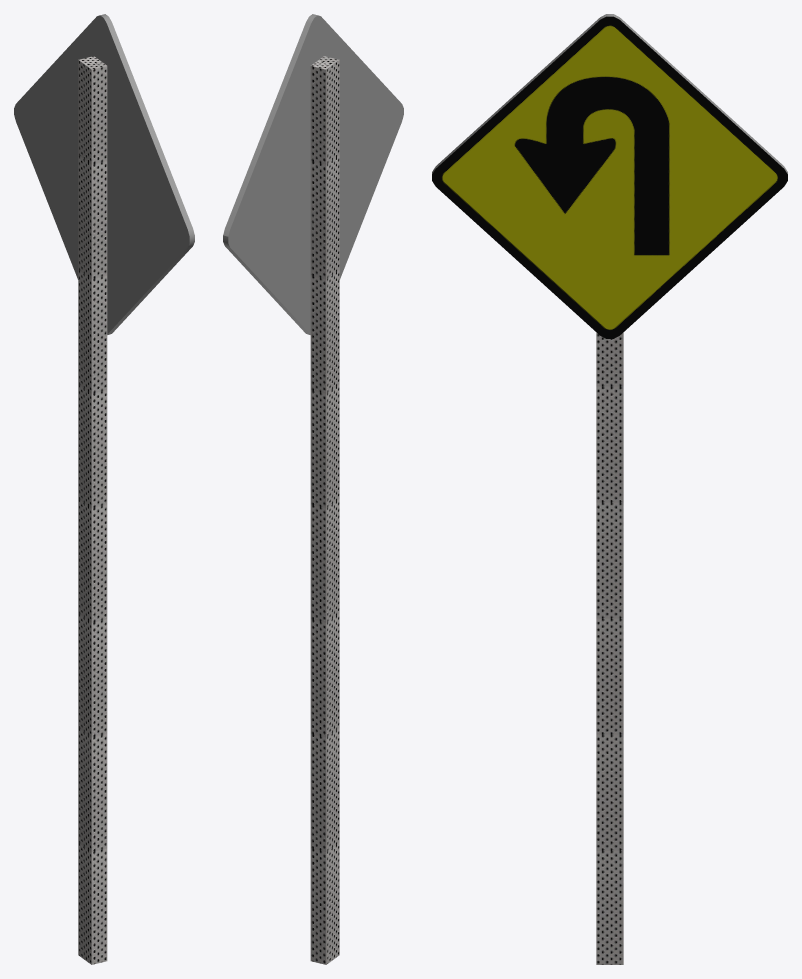
The model's file is U turn.fbx.
3 views of the same model, side by side, from view 1: azimuth 30°, elevation 25°; view 2: azimuth 150°, elevation 25°; view 3: azimuth 270°, elevation 25° (orthographic).
Visible parts, largest first — view 1: U turn; view 2: U turn; view 3: U turn.
Part boxes in pixels (x1,y1,x2,y2): U turn: [14, 14, 194, 964]; U turn: [223, 14, 403, 964]; U turn: [432, 14, 787, 964].
Bounding box in the file's own units: 5.56 × 225 × 76.24.
